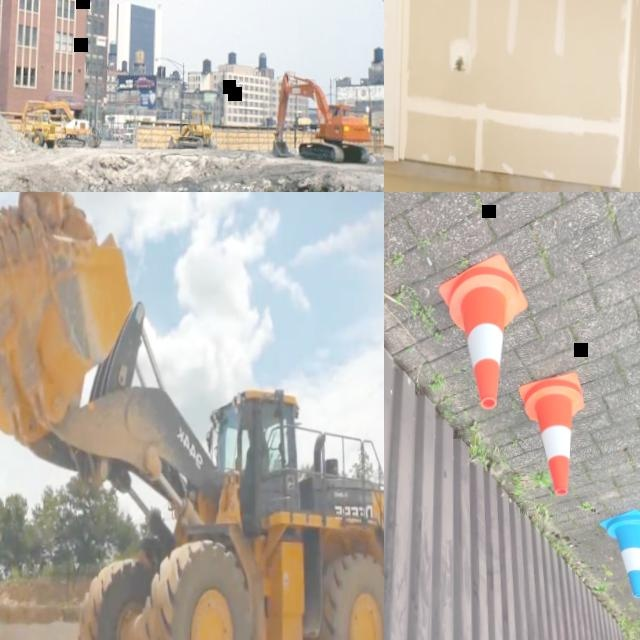Person: (241, 424, 269, 503)
Safety Cone: (434, 252, 536, 416), (517, 366, 590, 494), (597, 505, 640, 601)
machinery: (0, 192, 384, 640), (272, 72, 374, 161), (19, 98, 103, 147), (168, 106, 218, 148), (25, 107, 58, 147)
